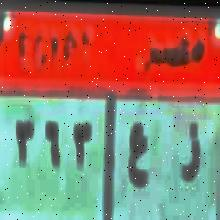3: (70, 115, 96, 172), (14, 117, 35, 172)
6: (42, 120, 63, 175)
ain: (124, 122, 154, 192)
zay: (178, 115, 205, 190)
